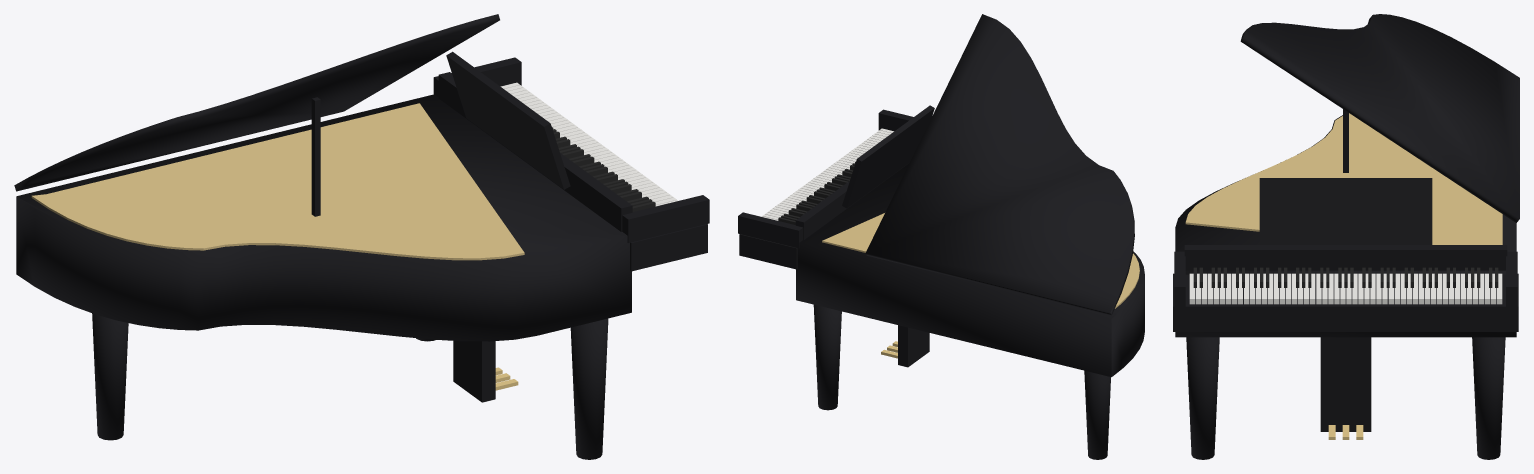
Rendered from piano.glb.
The picture shows the model from 3 angles, left to right: view 1: azimuth 30°, elevation 25°; view 2: azimuth 150°, elevation 25°; view 3: azimuth 270°, elevation 25°; orthographic projection. The views are drawn at different scales.
Parts seen in each view (by area): view 1: PianoCase, PianoPlate, PianoKeyW, PianoKeyB; view 2: PianoCase, PianoKeyW, PianoPlate, PianoKeyB; view 3: PianoCase, PianoPlate, PianoKeyW, PianoKeyB, PianoPedal.
Boxes of the visible parts, x1,y1,x2,y2 form: PianoCase: [14, 14, 709, 459]; PianoPlate: [31, 103, 524, 260]; PianoKeyW: [500, 82, 678, 206]; PianoKeyB: [552, 127, 655, 211]; PianoCase: [738, 14, 1144, 459]; PianoKeyW: [761, 128, 893, 220]; PianoPlate: [822, 213, 1139, 308]; PianoKeyB: [778, 162, 855, 224]; PianoCase: [1173, 14, 1519, 459]; PianoPlate: [1185, 113, 1502, 244]; PianoKeyW: [1189, 273, 1502, 304]; PianoKeyB: [1193, 267, 1498, 288]; PianoPedal: [1328, 425, 1363, 439].
Size of the model in its own units: 2.21 by 1.86 by 1.5.
